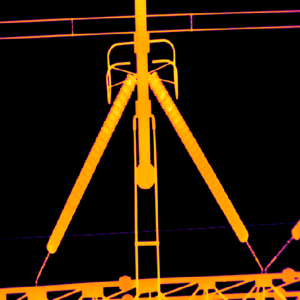insulator: (147, 71, 248, 243), (46, 73, 135, 253)
